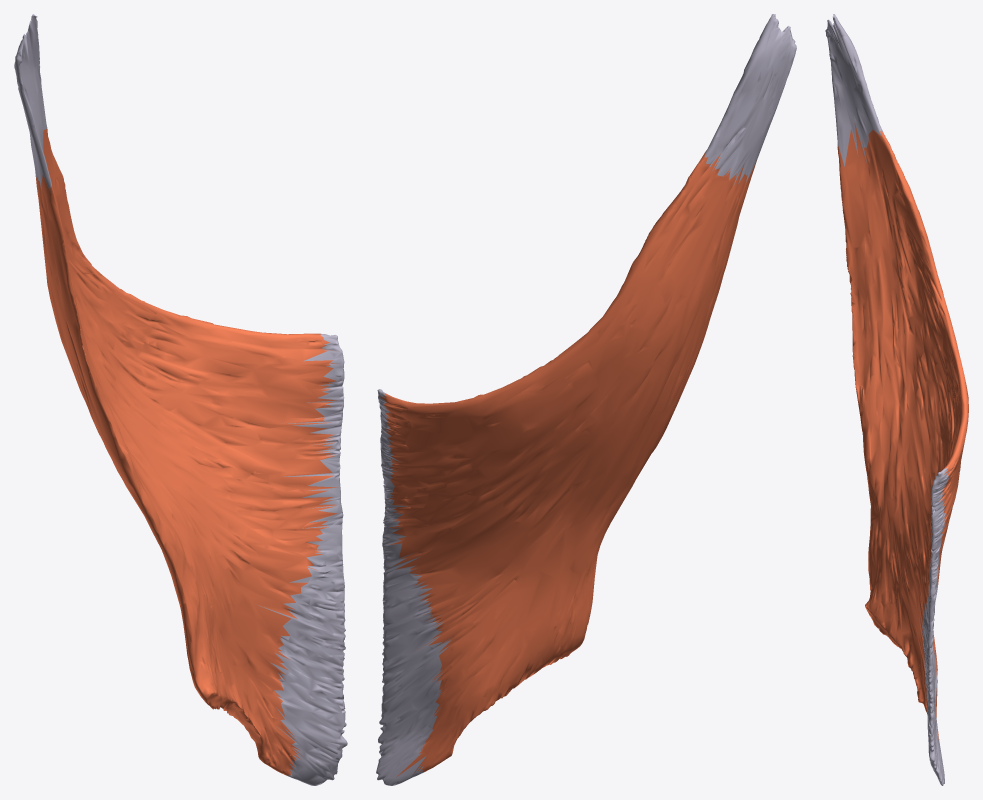
The model's file is Latissimus_dorsi_left_002.glb.
The picture shows the model from 3 angles, left to right: view 1: azimuth 30°, elevation 25°; view 2: azimuth 150°, elevation 25°; view 3: azimuth 270°, elevation 25°; orthographic projection. The views are drawn at different scales.
Parts seen in each view (by area): view 1: Latissimus_dorsi_muscle.l_Generated_Mesh_From_X3D.398; view 2: Latissimus_dorsi_muscle.l_Generated_Mesh_From_X3D.398; view 3: Latissimus_dorsi_muscle.l_Generated_Mesh_From_X3D.398.
Part boxes in pixels (x1,y1,x2,y2): Latissimus_dorsi_muscle.l_Generated_Mesh_From_X3D.398: [14, 14, 347, 785]; Latissimus_dorsi_muscle.l_Generated_Mesh_From_X3D.398: [376, 14, 796, 785]; Latissimus_dorsi_muscle.l_Generated_Mesh_From_X3D.398: [825, 14, 968, 785].
Size of the model in its own units: 0.1869 by 0.4042 by 0.0818.
